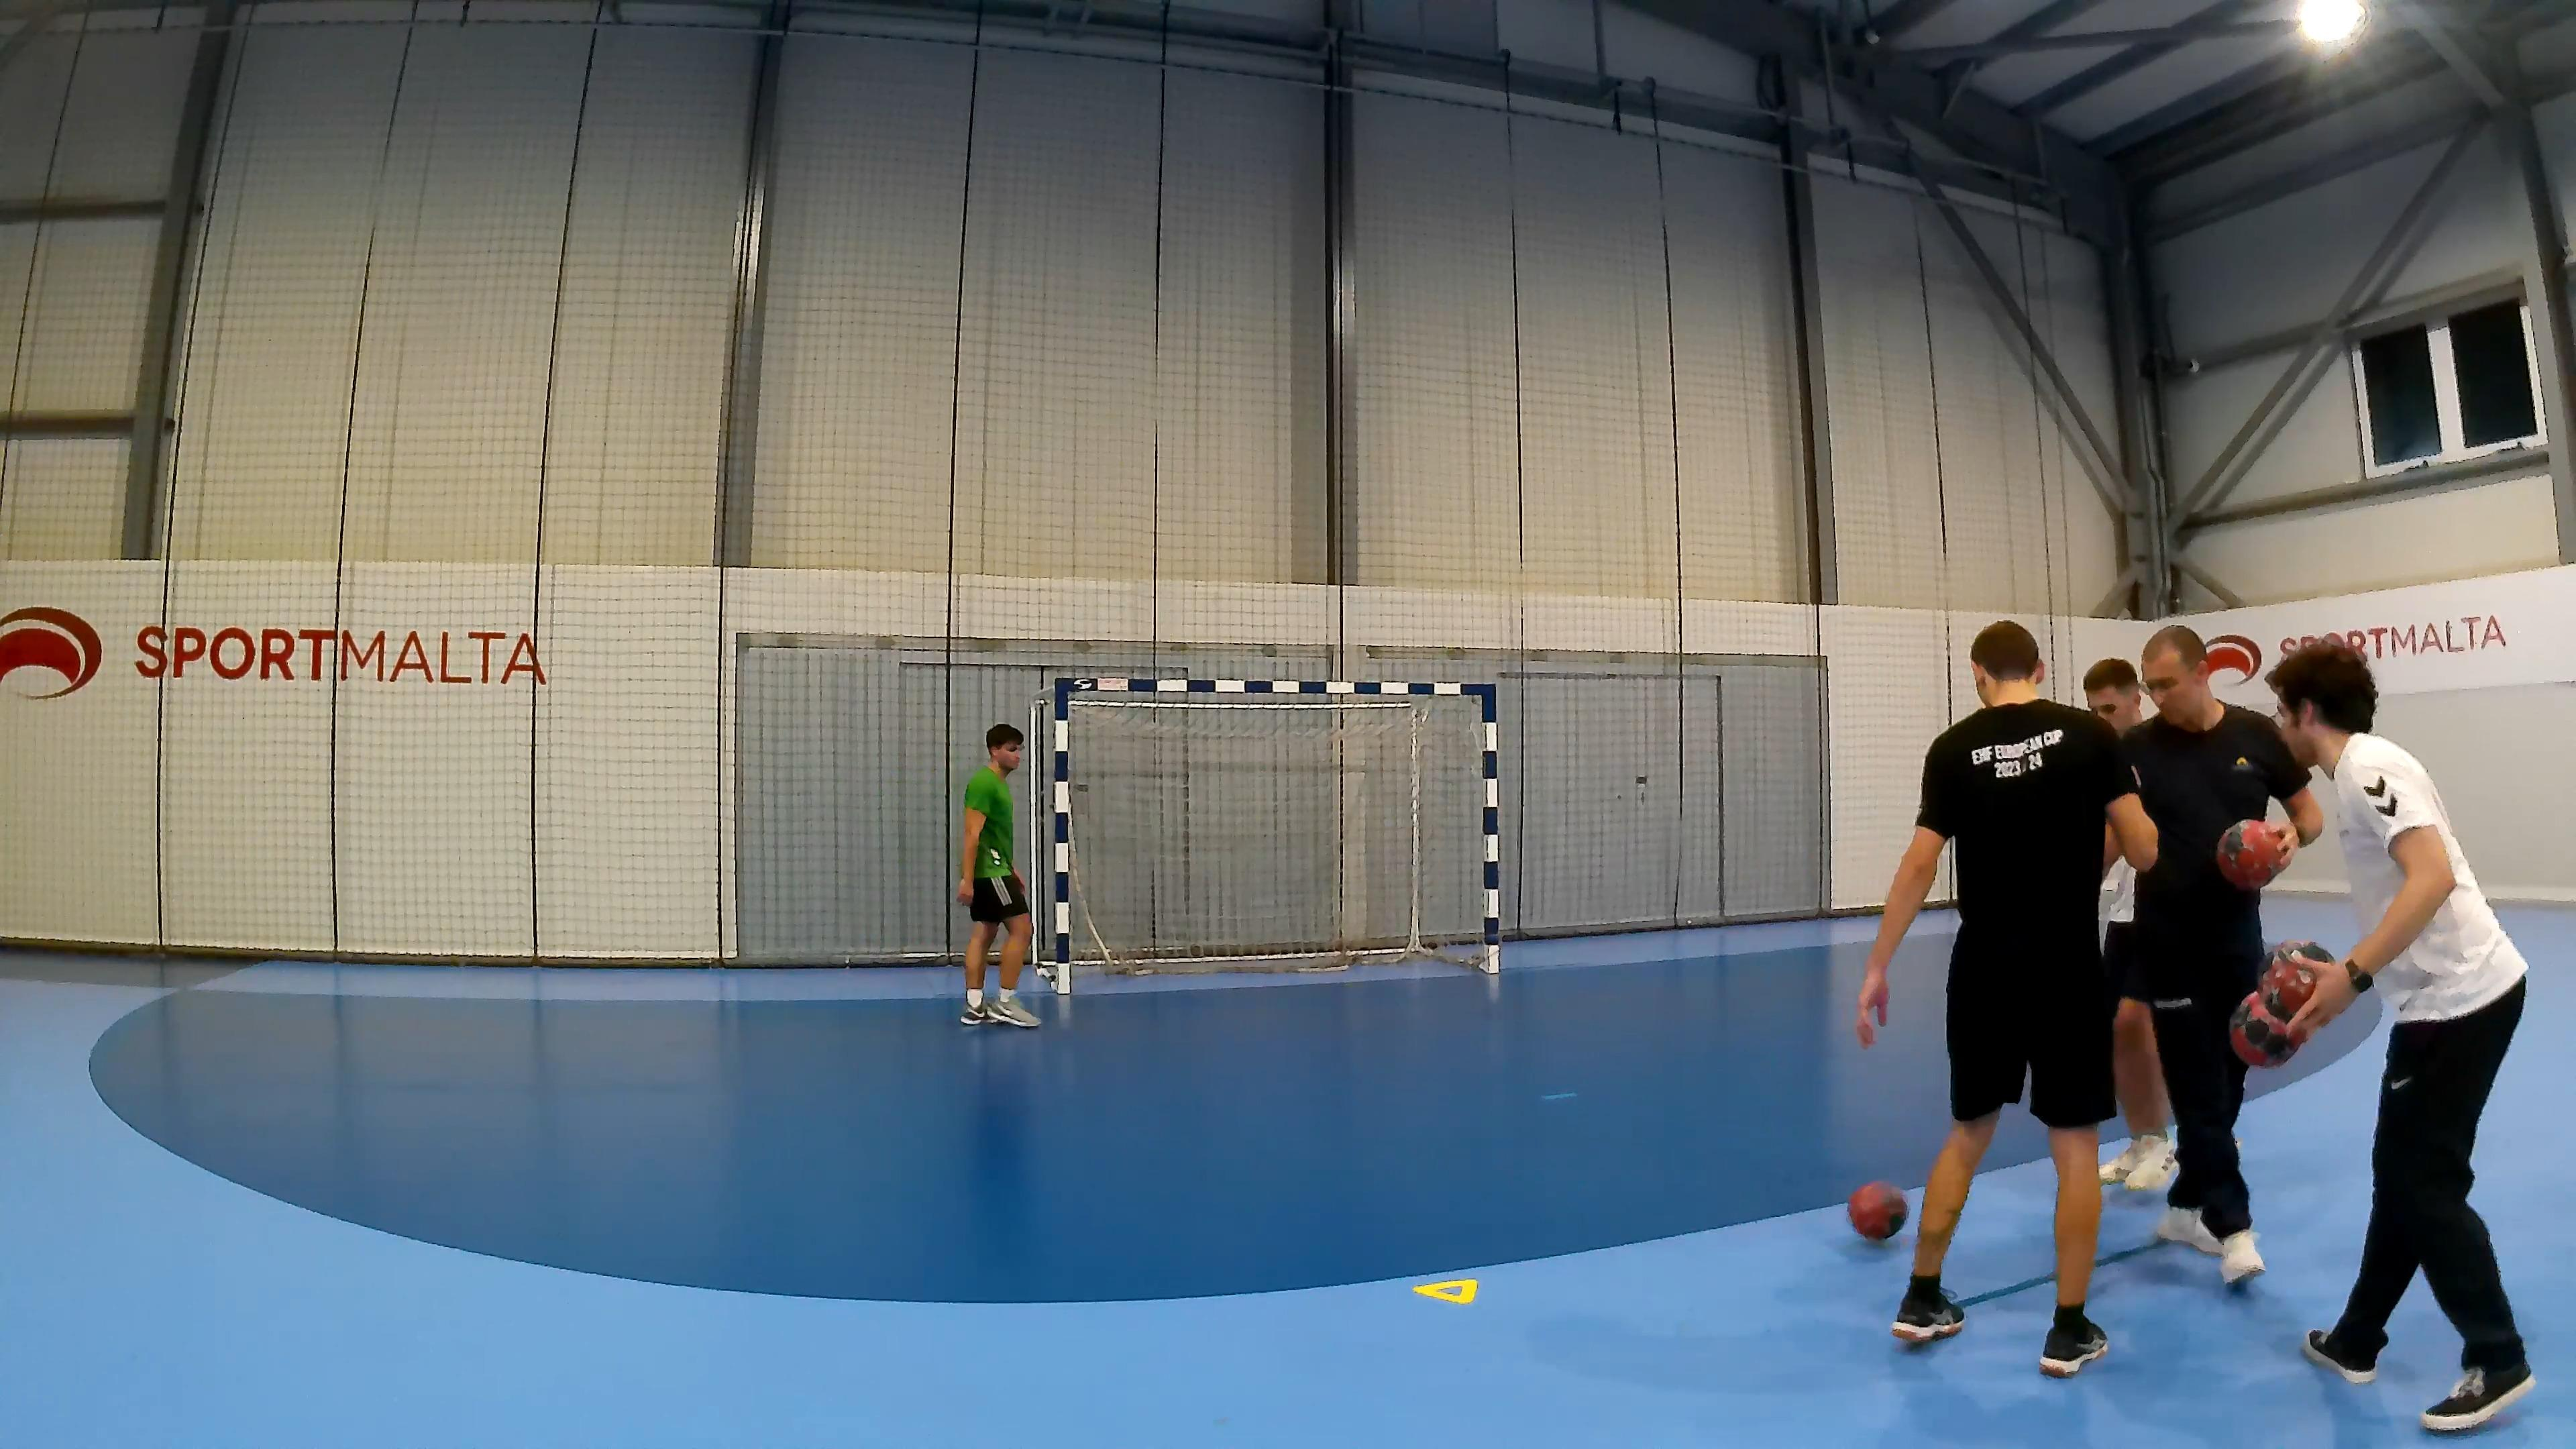handball: (2229, 939, 2335, 1069), (2215, 817, 2284, 890), (1845, 1180, 1907, 1240)
